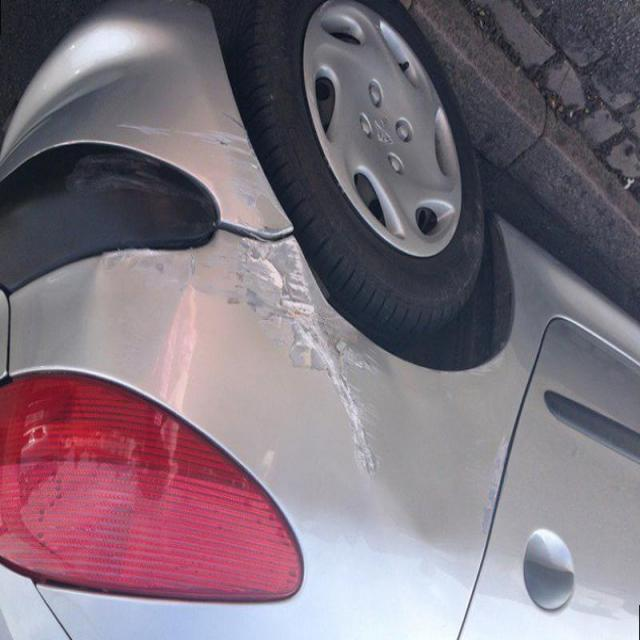scratch: (204, 212, 390, 492)
